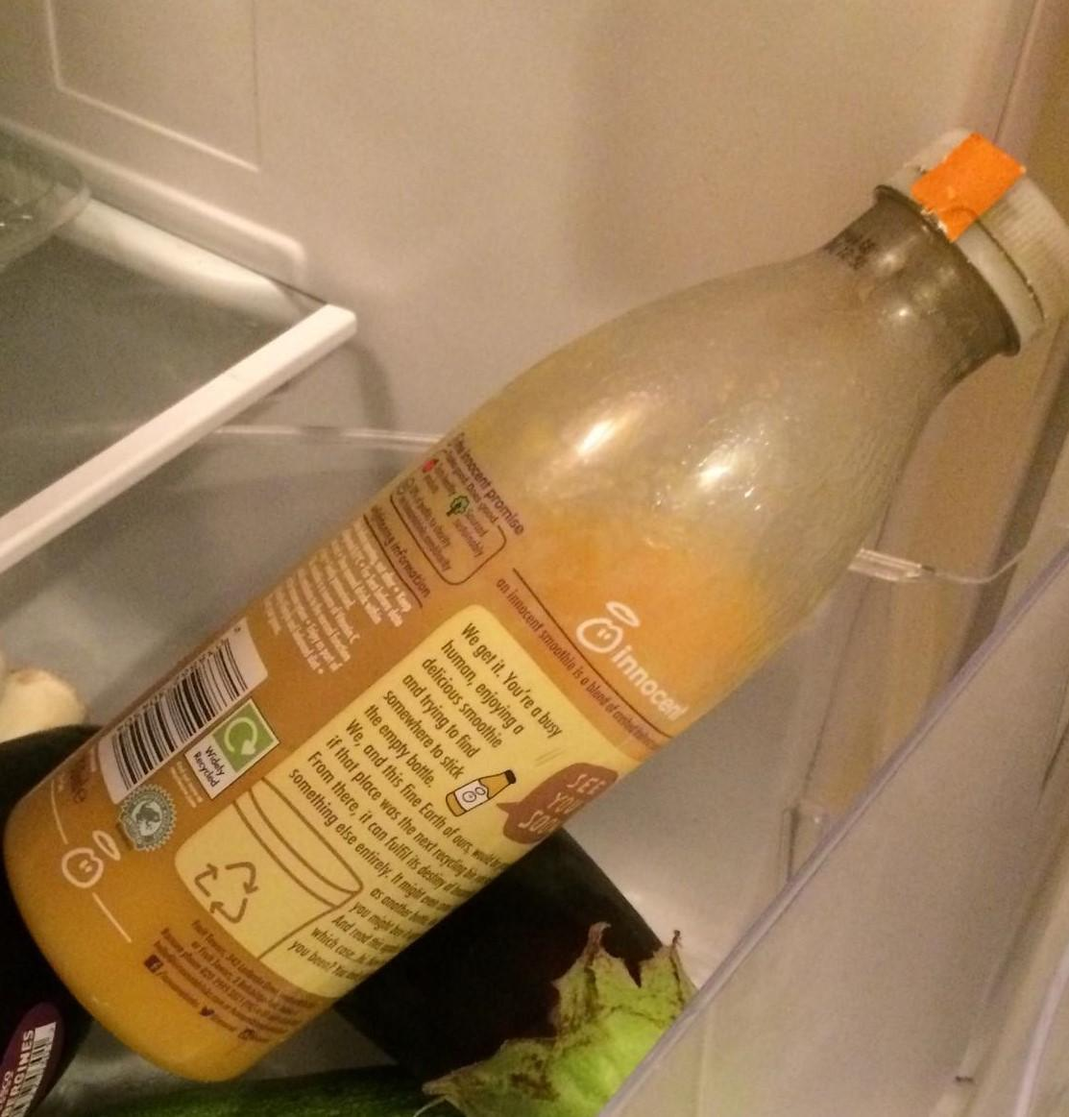Plastic: (0, 108, 1069, 1098)
